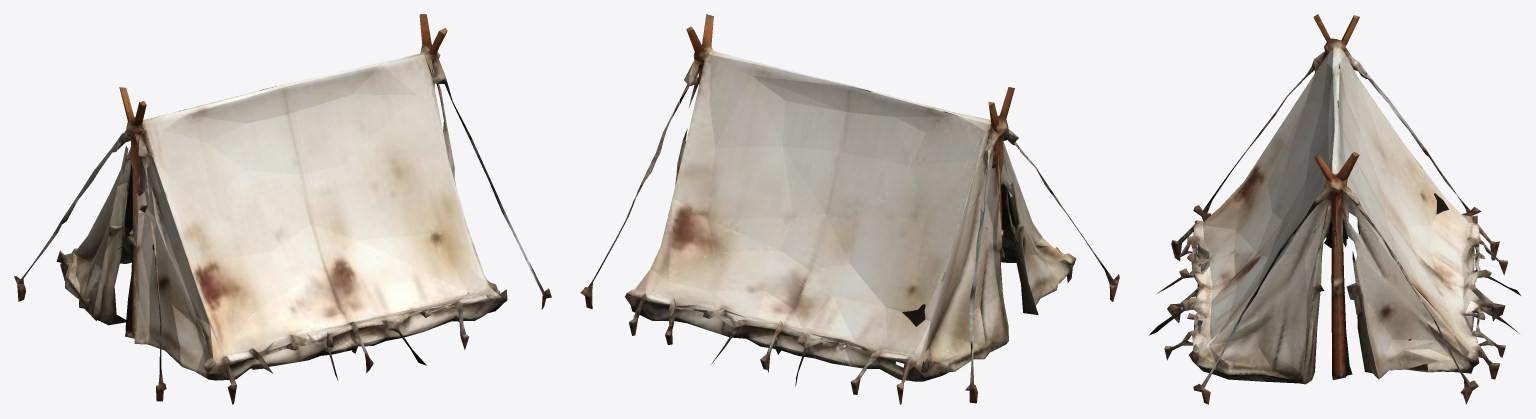
File: ga3_tent_lod0.glb
The picture shows the model from 3 angles, left to right: view 1: azimuth 30°, elevation 25°; view 2: azimuth 150°, elevation 25°; view 3: azimuth 270°, elevation 25°; orthographic projection. The views are drawn at different scales.
Parts seen in each view (by area): view 1: ga3_tent_lod0; view 2: ga3_tent_lod0; view 3: ga3_tent_lod0.
Boxes of the visible parts, box(x1,y1,x2,y2) form: ga3_tent_lod0: box(14, 14, 551, 404); ga3_tent_lod0: box(580, 14, 1119, 404); ga3_tent_lod0: box(1149, 14, 1520, 404).
Bounding box in the file's own units: 4.99 × 3.12 × 4.4.
Materials: 1 (1 with a texture image).
